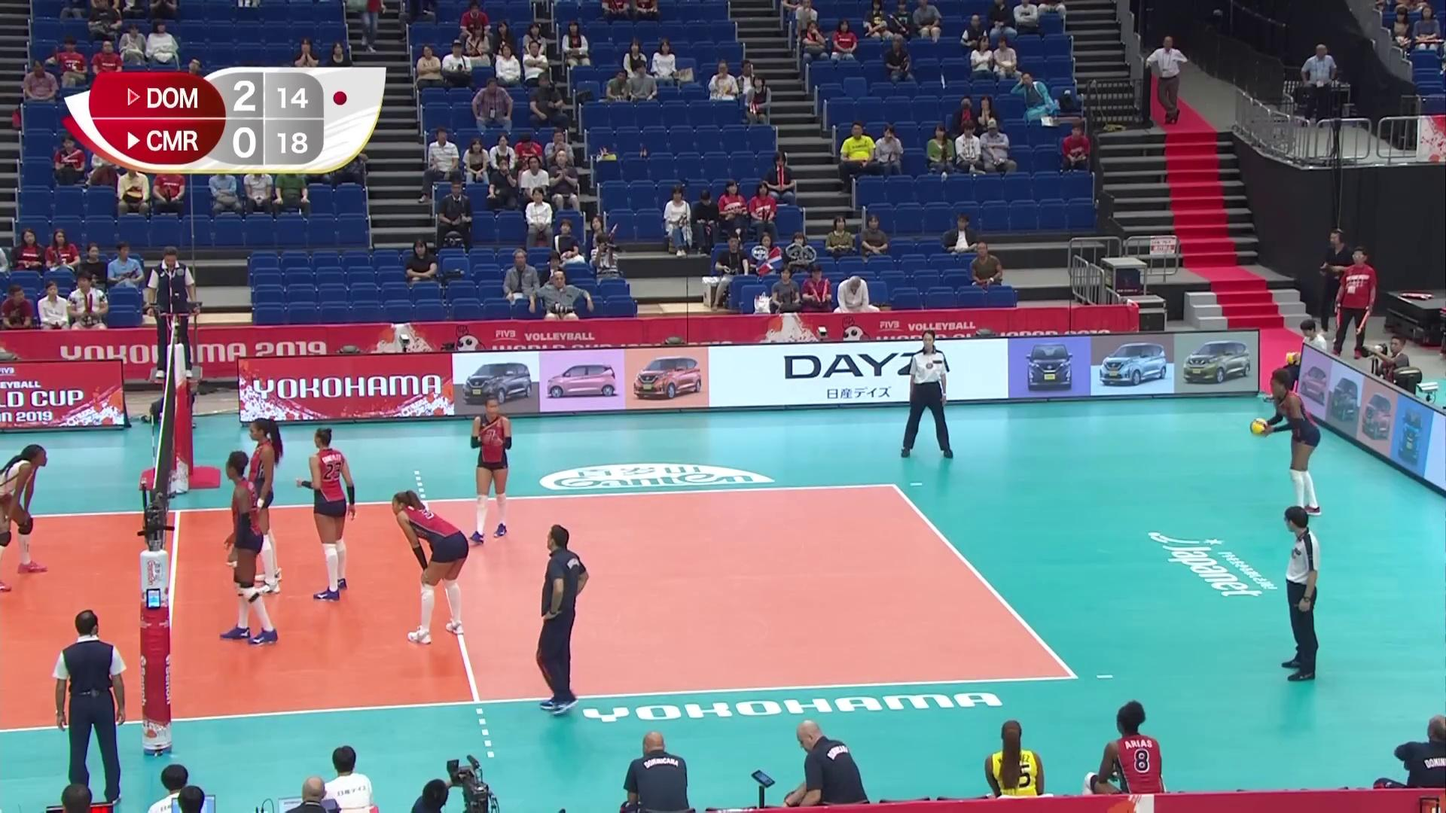player: (397, 491, 486, 644), (216, 450, 279, 648), (1251, 361, 1322, 520), (294, 430, 360, 601), (466, 397, 521, 538), (0, 443, 53, 576), (244, 415, 282, 596)
refree: (54, 608, 130, 807), (1279, 497, 1322, 684), (145, 245, 200, 384), (897, 327, 954, 461)
